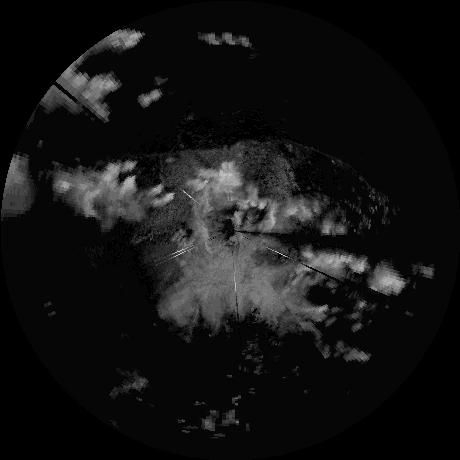frontgust: (277, 140, 385, 217)
